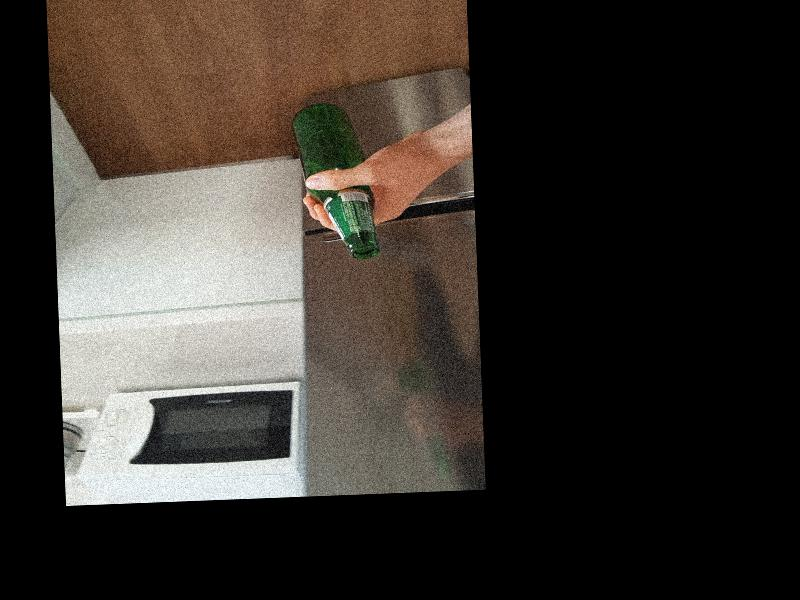Beer: (292, 100, 379, 261)
